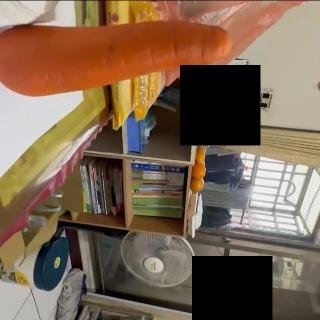carrot: (0, 20, 234, 96)
